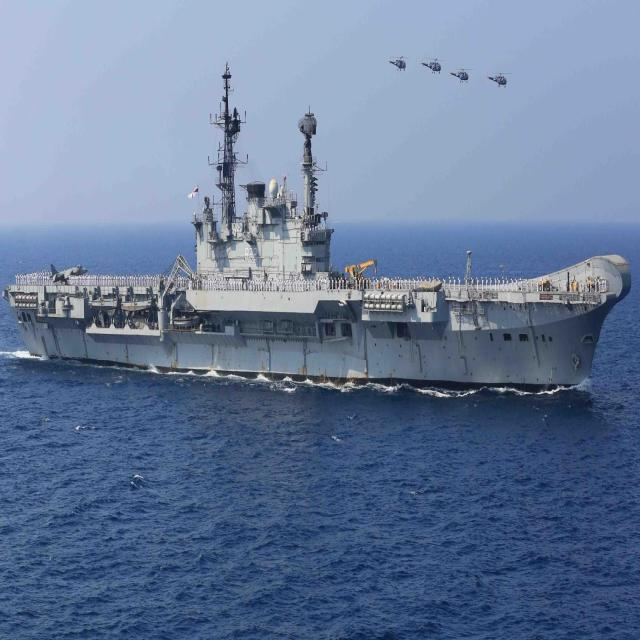Aircraft-Carrier-Vikrant-Class-IND: (7, 49, 638, 397)
